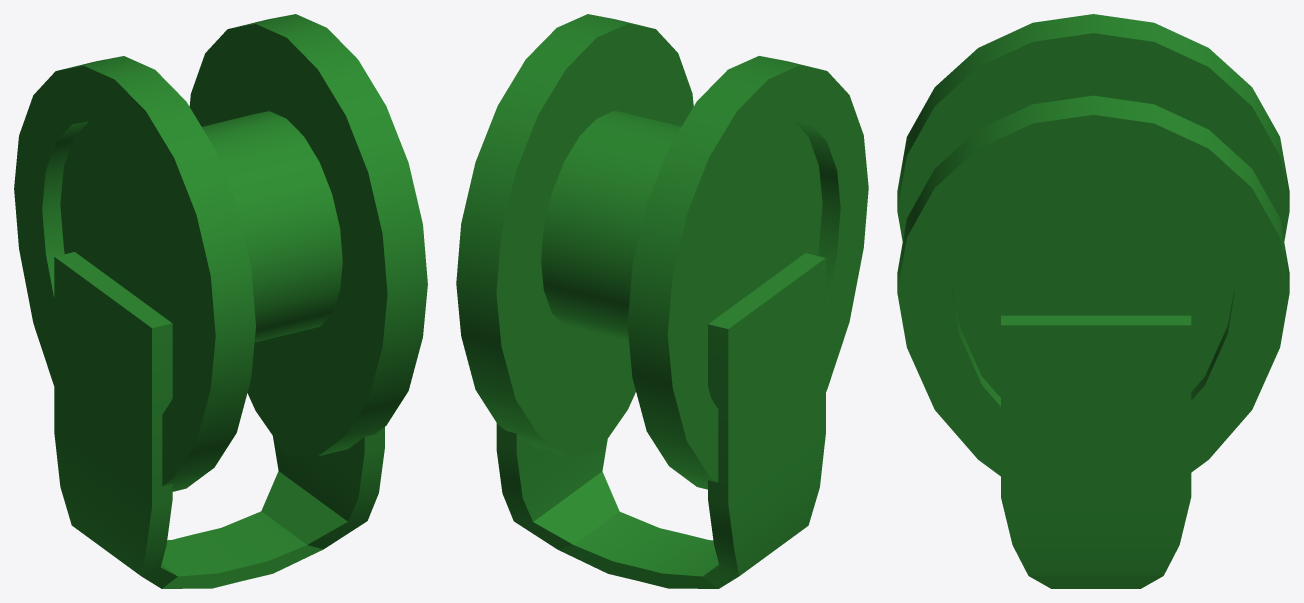
Rendered from polea plataforma.fbx.
3 views of the same model, side by side, from view 1: azimuth 30°, elevation 25°; view 2: azimuth 150°, elevation 25°; view 3: azimuth 270°, elevation 25° (orthographic). The views are drawn at different scales.
Parts seen in each view (by area): view 1: Polea b 1; view 2: Polea b 1; view 3: Polea b 1.
Part boxes in pixels (x1,y1,x2,y2): Polea b 1: (14, 14, 427, 588); Polea b 1: (456, 14, 868, 588); Polea b 1: (897, 14, 1289, 588).
Bounding box in the file's own units: 25.14 × 37.73 × 52.81.
